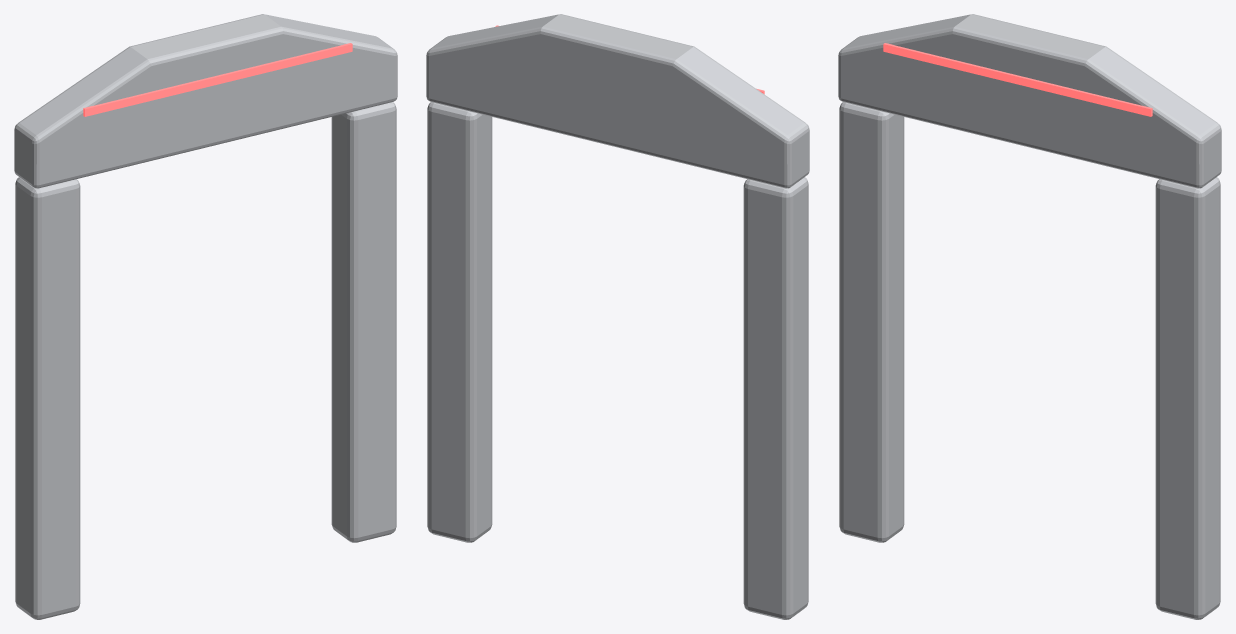
File: door_surround_bulkhead_arch.glb
3 views of the same model, side by side, from view 1: azimuth 30°, elevation 25°; view 2: azimuth 150°, elevation 25°; view 3: azimuth 330°, elevation 25° (orthographic).
Visible parts, largest first — view 1: GD_door_surround_bulkhead_arch__m0, GD_door_surround_bulkhead_arch__m1; view 2: GD_door_surround_bulkhead_arch__m0; view 3: GD_door_surround_bulkhead_arch__m0, GD_door_surround_bulkhead_arch__m1.
Boxes of the visible parts, x1,y1,x2,y2 form: GD_door_surround_bulkhead_arch__m0: [14, 14, 397, 619]; GD_door_surround_bulkhead_arch__m1: [83, 43, 352, 116]; GD_door_surround_bulkhead_arch__m0: [426, 14, 809, 619]; GD_door_surround_bulkhead_arch__m0: [838, 14, 1221, 619]; GD_door_surround_bulkhead_arch__m1: [883, 43, 1152, 116].
Bounding box in the file's own units: 1.5 × 2.1 × 0.171.
